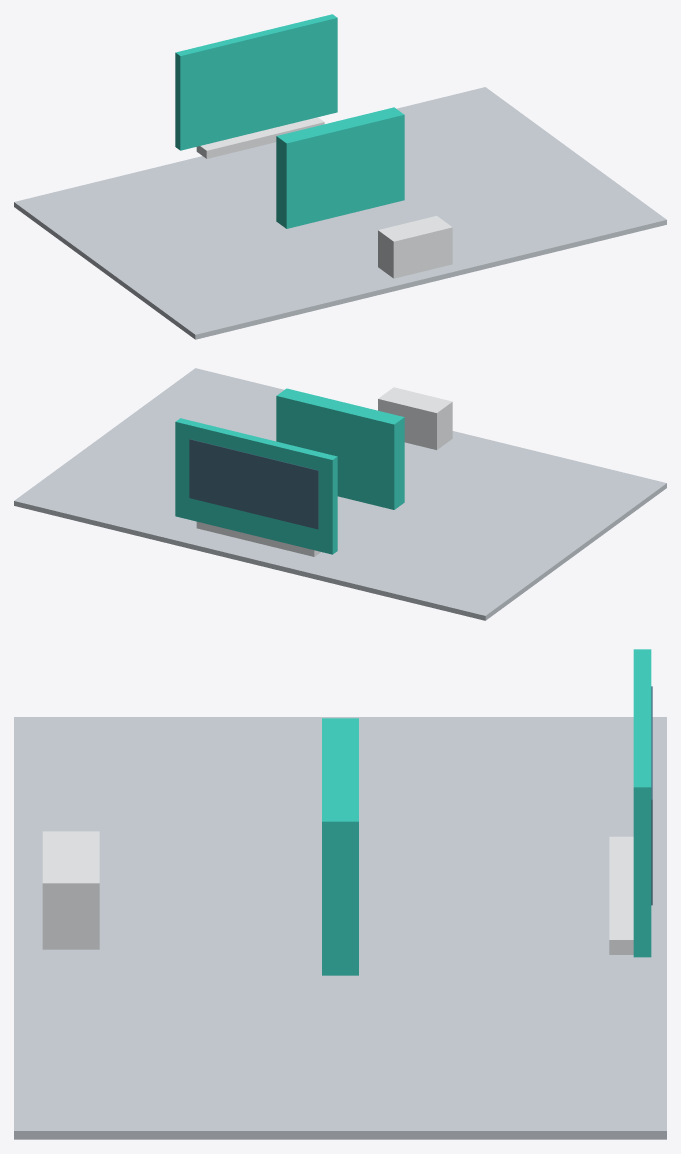
3 views of the same model, one above another, from view 1: azimuth 30°, elevation 25°; view 2: azimuth 150°, elevation 25°; view 3: azimuth 270°, elevation 25° (orthographic). The views are drawn at different scales.
Visible parts, largest first — view 1: Exhibition Booth Concept; view 2: Exhibition Booth Concept; view 3: Exhibition Booth Concept.
Boxes of the visible parts, bbox=[...] form: Exhibition Booth Concept: bbox=[14, 14, 666, 339]; Exhibition Booth Concept: bbox=[14, 368, 666, 620]; Exhibition Booth Concept: bbox=[14, 649, 666, 1139].
Bounding box in the file's own units: 12 × 2.9 × 8.
